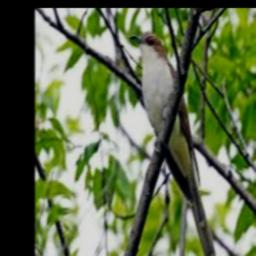Cuckoo: (128, 33, 220, 256)
